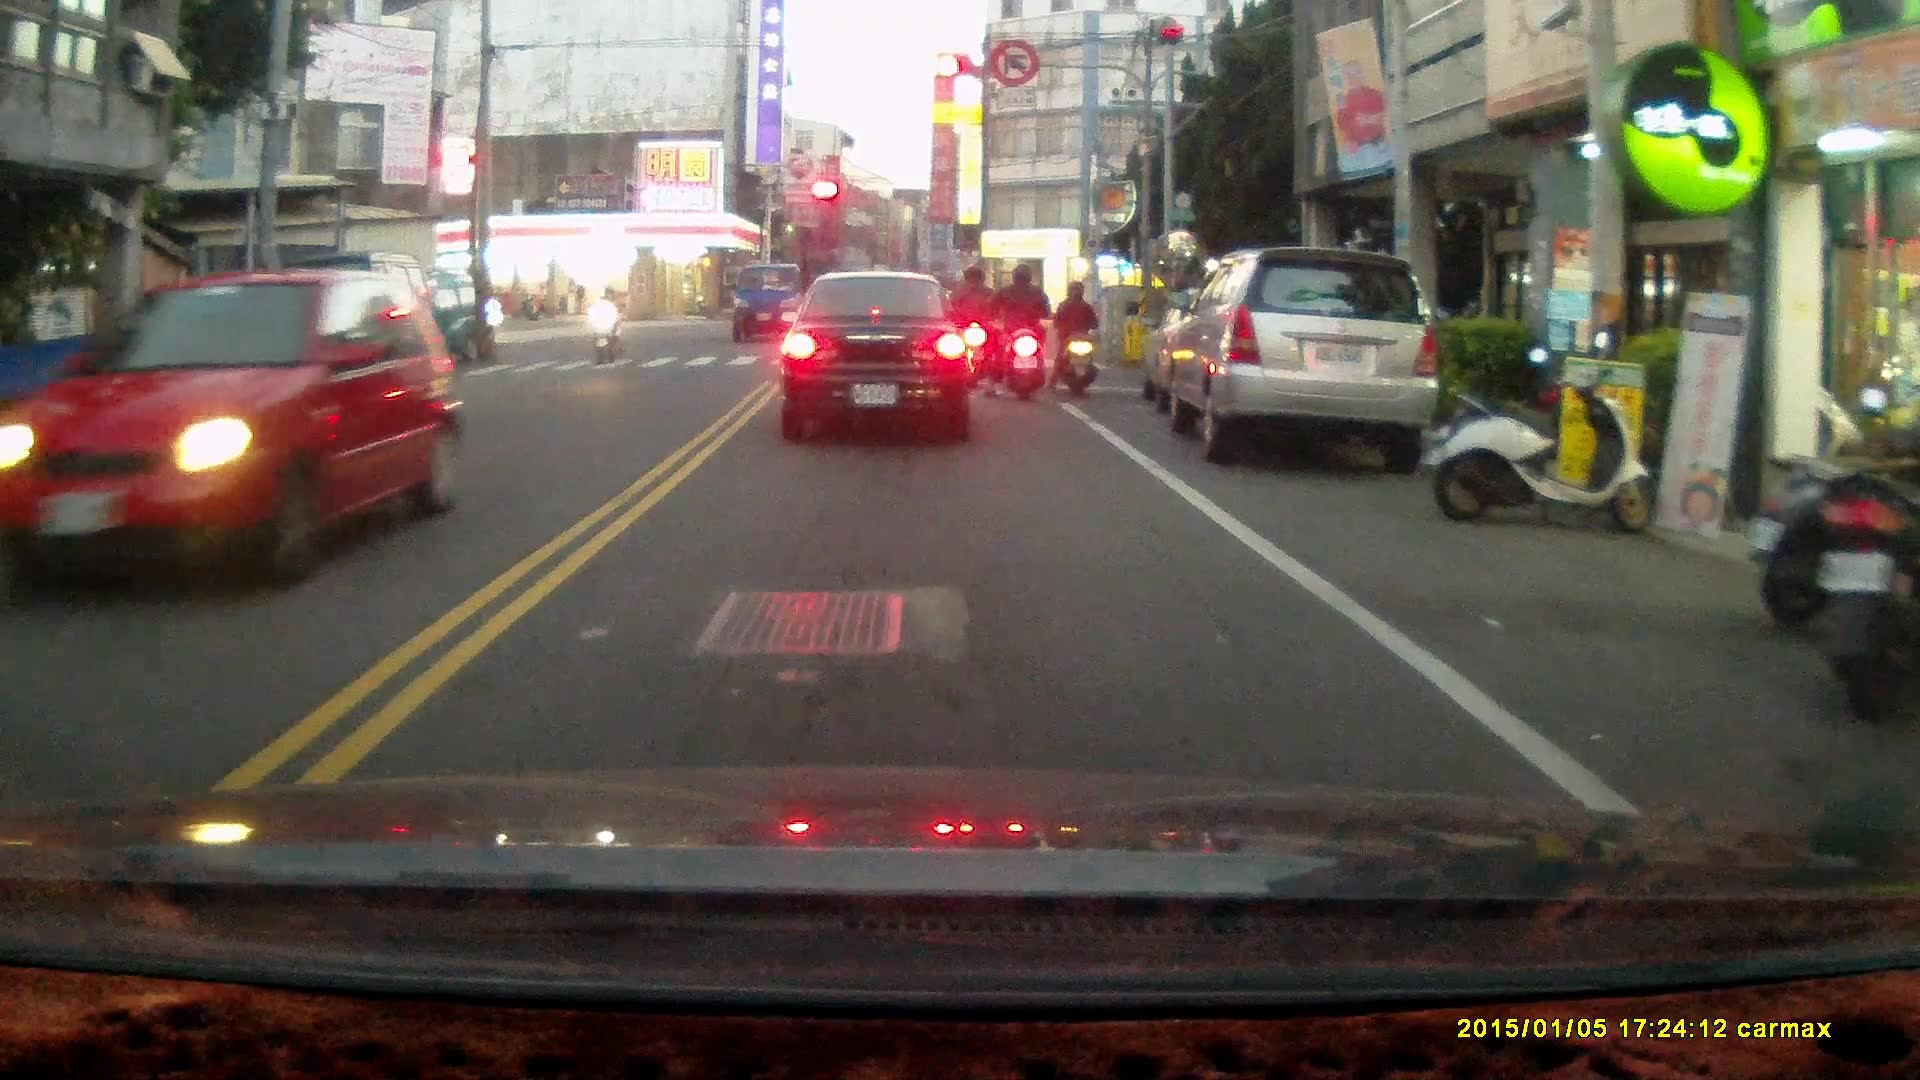rider: (986, 259, 1053, 403), (1048, 275, 1102, 396), (946, 264, 993, 386), (592, 281, 621, 365)
vehicle: (1, 266, 460, 590), (1155, 244, 1439, 463), (783, 268, 979, 440)
